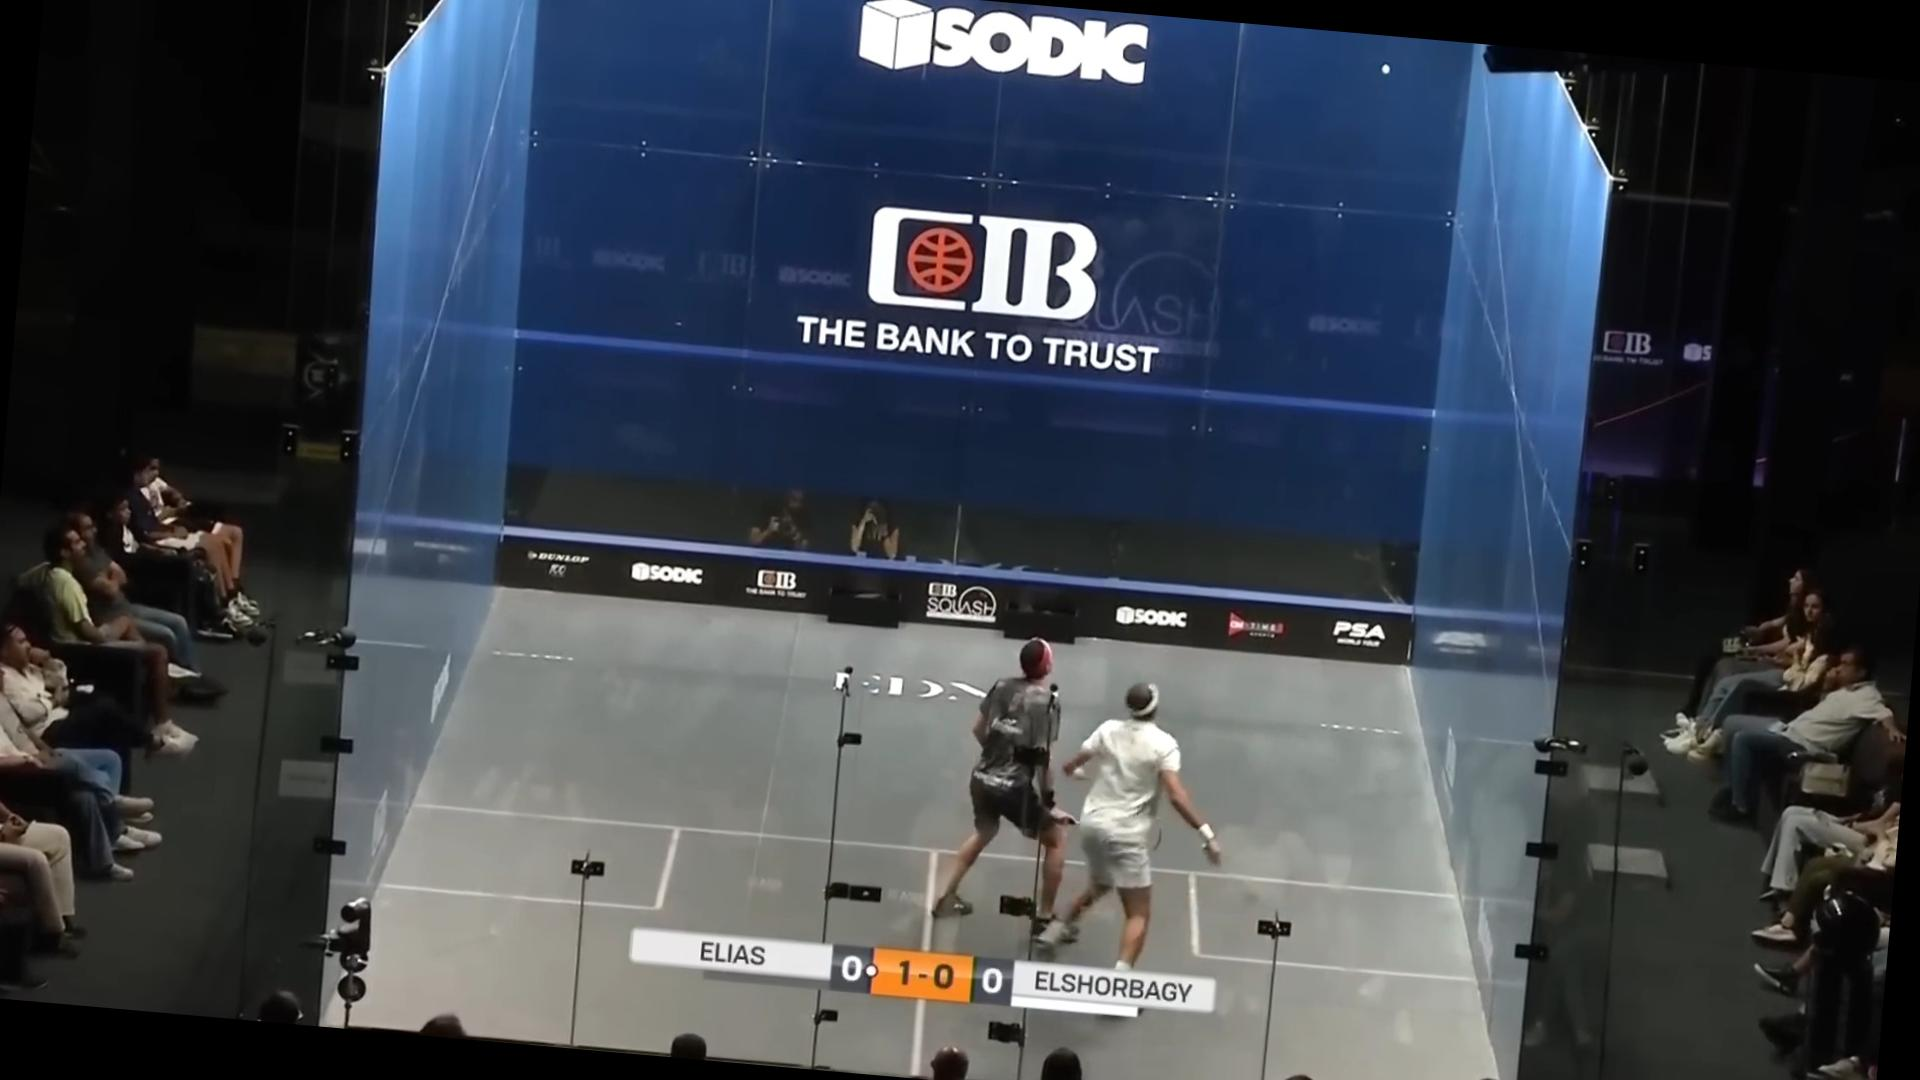Squash-Ball: (1370, 54, 1400, 82)
